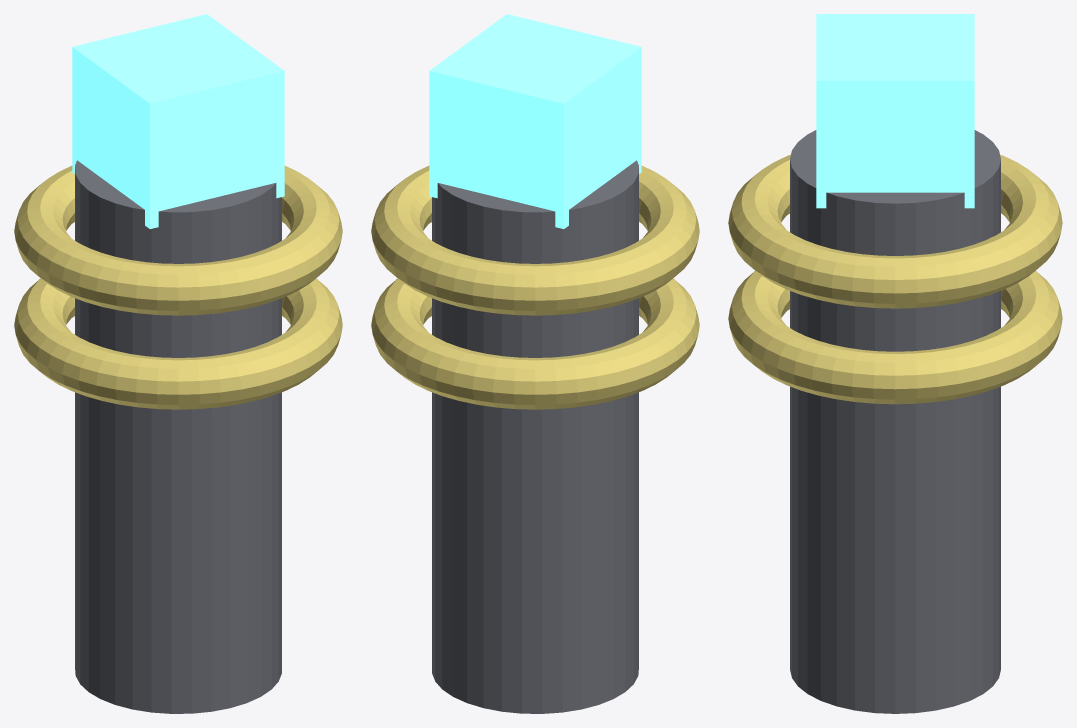
Rendered from emp_device.glb.
3 renders of one model, left to right at view 1: azimuth 30°, elevation 25°; view 2: azimuth 150°, elevation 25°; view 3: azimuth 270°, elevation 25°, orthographic.
Visible parts, largest first — view 1: EMPDevice; view 2: EMPDevice; view 3: EMPDevice.
Boxes of the visible parts, bbox=[...] form: EMPDevice: bbox=[14, 14, 342, 713]; EMPDevice: bbox=[371, 14, 699, 713]; EMPDevice: bbox=[728, 14, 1062, 713].
Bounding box in the file's own units: 0.19 × 0.39 × 0.19.
